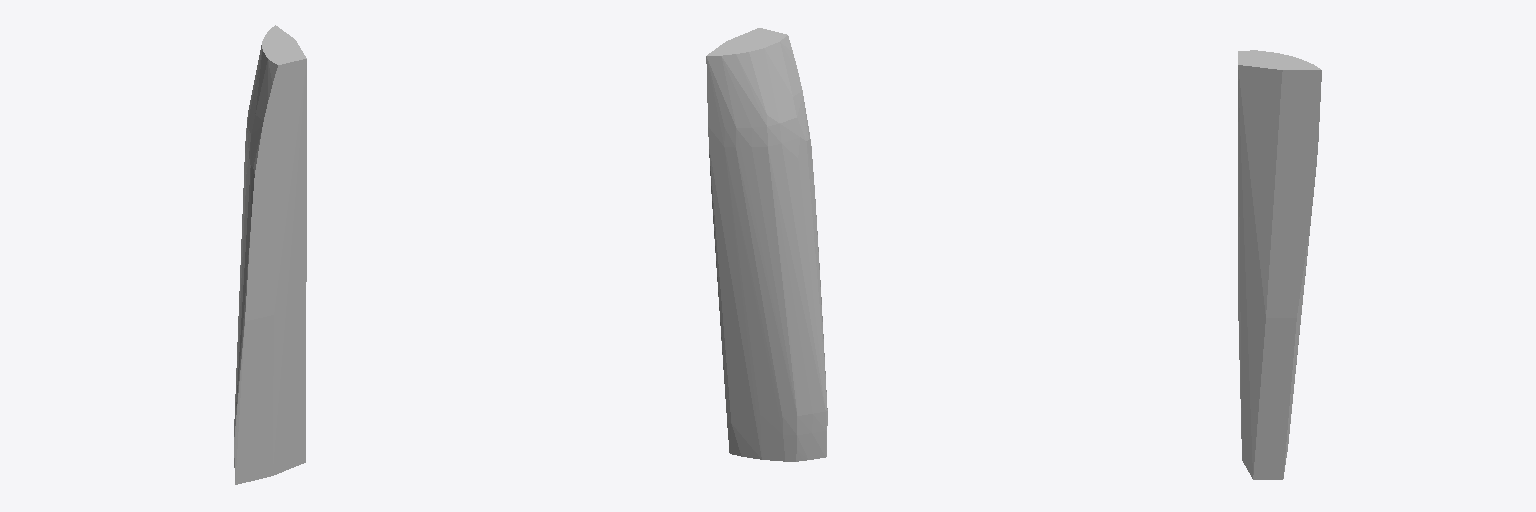
The model's file is phantom-elastrat_collision_160.obj.
The picture shows the model from 3 angles: view 1: azimuth 30°, elevation 25°; view 2: azimuth 150°, elevation 25°; view 3: azimuth 270°, elevation 25°; orthographic projection.
Bounding box in the file's own units: 0.005 × 0.0244 × 0.0045.